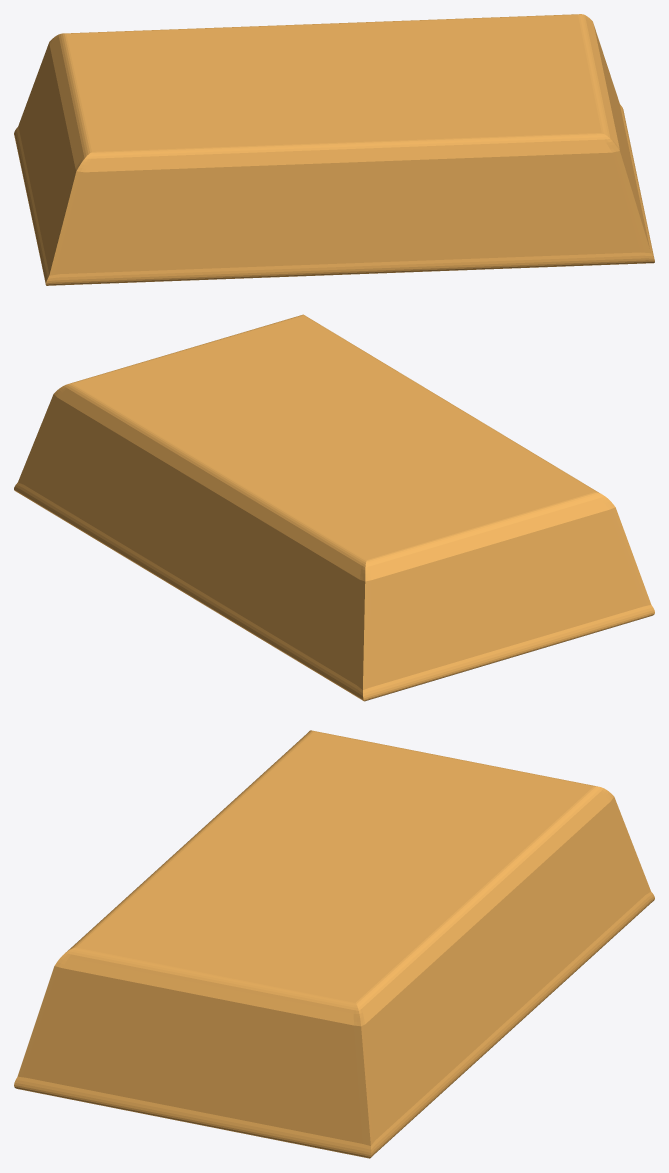
File: ore.fbx
3 views of the same model, one above another, from view 1: azimuth 30°, elevation 25°; view 2: azimuth 150°, elevation 25°; view 3: azimuth 270°, elevation 25° (orthographic). The views are drawn at different scales.
Parts seen in each view (by area): view 1: Box005; view 2: Box005; view 3: Box005.
Part boxes in pixels (<box>): Box005: <box>14,14,654,285</box>; Box005: <box>14,314,654,701</box>; Box005: <box>14,730,654,1158</box>.
Bounding box in the file's own units: 74.65 × 13.68 × 61.65.
